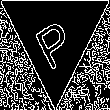P_NW: (30, 6, 80, 68)
